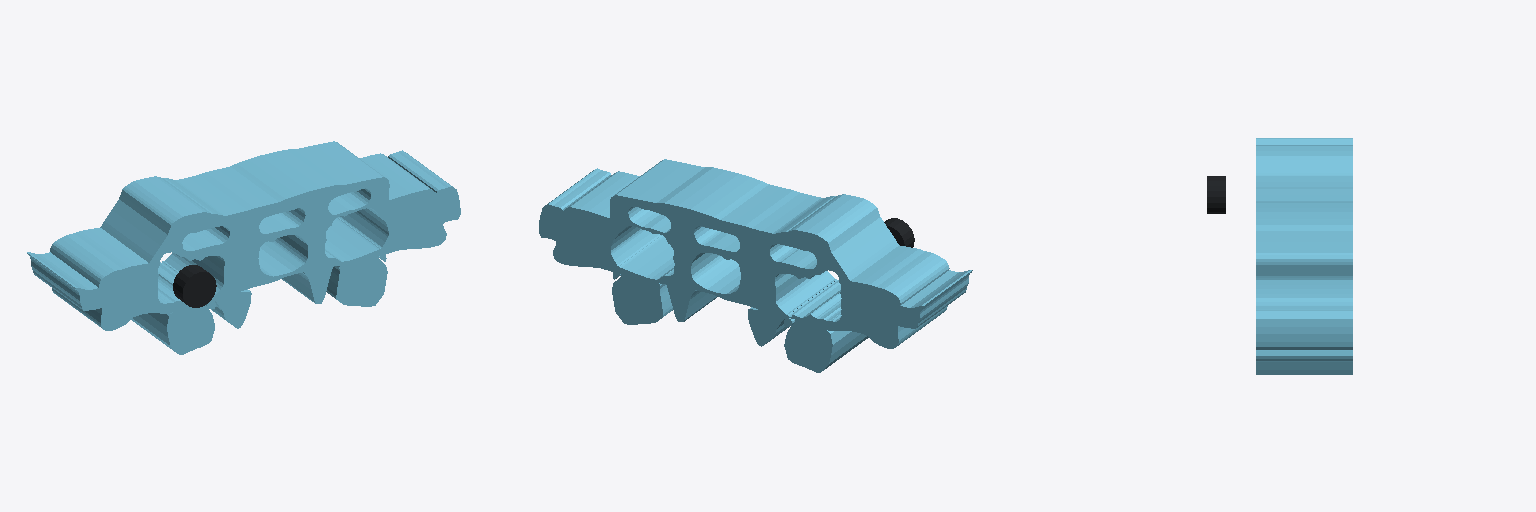
File: tinker.obj
3 renders of one model, left to right at view 1: azimuth 30°, elevation 25°; view 2: azimuth 150°, elevation 25°; view 3: azimuth 270°, elevation 25°, orthographic.
Visible parts, largest first — view 1: obj_0; view 2: obj_0; view 3: obj_0.
Part boxes in pixels (left/top/right/bottom): obj_0: left=27, top=141, right=460, bottom=354; obj_0: left=539, top=159, right=972, bottom=372; obj_0: left=1207, top=138, right=1352, bottom=374.
Bounding box in the file's own units: 45.37 × 15.56 × 15.